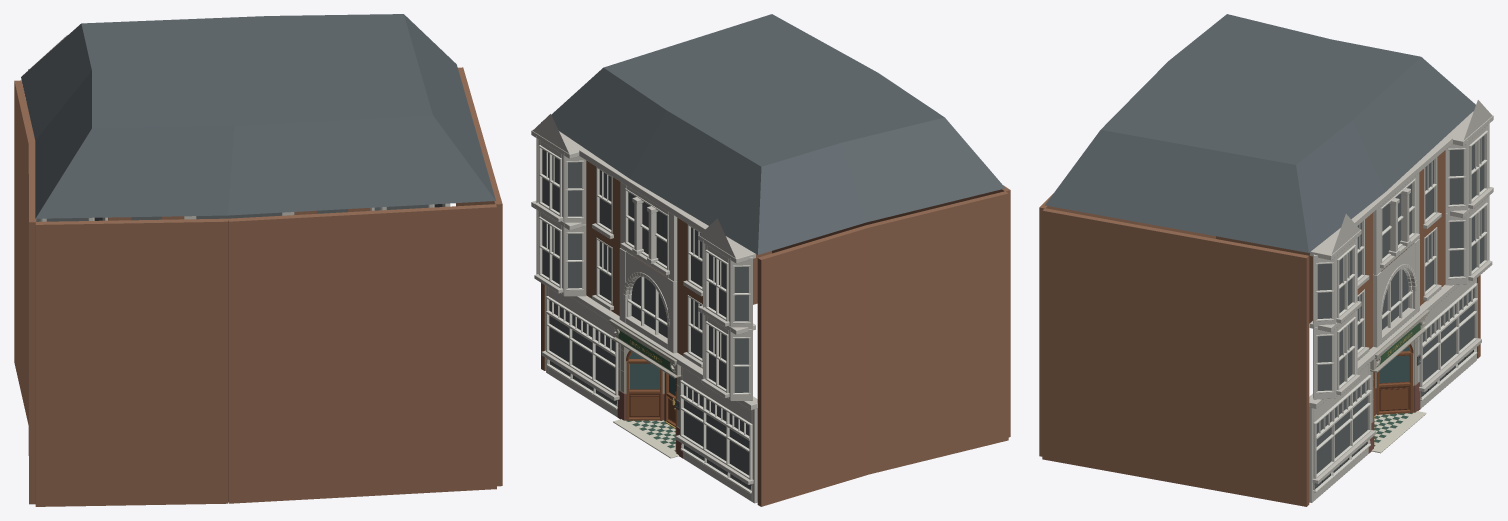
The model's file is lch-exterior-cb56f5a984d0.glb.
3 views of the same model, side by side, from view 1: azimuth 30°, elevation 25°; view 2: azimuth 150°, elevation 25°; view 3: azimuth 270°, elevation 25° (orthographic). The views are drawn at different scales.
Visible parts, largest first — view 1: LCH.001; view 2: LCH.001; view 3: LCH.001.
Part boxes in pixels (<box>): LCH.001: <box>14,14,502,506</box>; LCH.001: <box>531,14,1010,506</box>; LCH.001: <box>1039,14,1493,506</box>.
Size of the model in its own units: 19.23 by 13.5 by 17.71.
